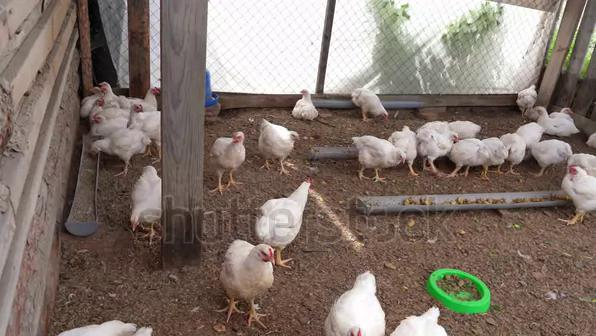Pollos: (223, 239, 275, 303), (259, 176, 313, 236), (129, 164, 165, 235), (88, 126, 151, 161), (352, 135, 408, 172), (258, 123, 302, 158), (567, 163, 596, 214), (212, 129, 246, 172), (535, 107, 581, 138), (526, 136, 574, 165), (350, 86, 390, 120), (417, 128, 460, 156), (475, 136, 505, 167), (132, 101, 162, 130), (293, 88, 317, 120), (100, 83, 128, 108), (92, 113, 127, 131), (516, 86, 538, 111), (144, 83, 157, 104)
